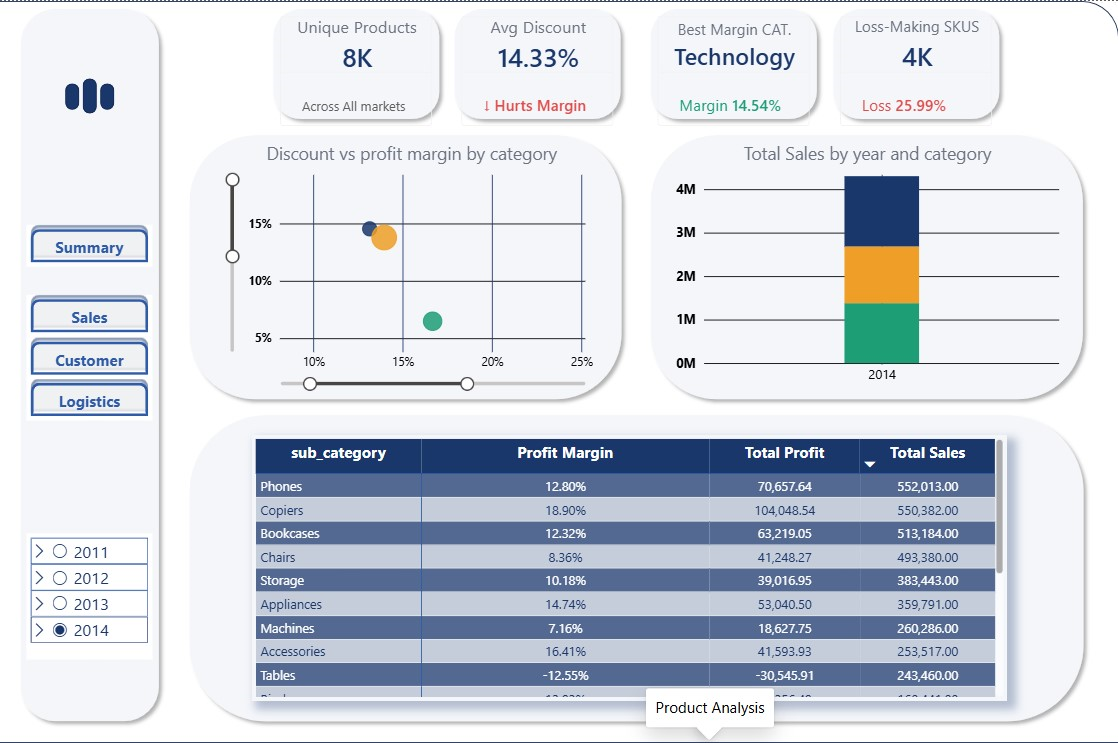

Layout of this report page (visuals, bound fields, positions):
{"tool":"powerbi","page":{"name":"Product Analysis","canvas":[1280,850],"ordinal":3},"visuals":[{"type":"shape","box":[0,0,1280,848],"z":0},{"type":"shape","box":[16,0,176,832],"z":1000},{"type":"shape","box":[736,144,512,320],"z":2000},{"type":"shape","box":[208,464,1040,368],"z":3000},{"type":"shape","box":[208,144,512,320],"z":4000},{"type":"shape","box":[304,0,208,144],"z":5000},{"type":"shape","box":[736,0,208,144],"z":6000},{"type":"shape","box":[512,0,208,144],"z":7000},{"type":"shape","box":[944,0,208,144],"z":8000},{"type":"cardVisual","fields":{"Data":["KPIs.Best Margin Category"]},"box":[736,0,208,160],"z":9000},{"type":"cardVisual","fields":{"Data":["KPIs.Avg Discount"]},"box":[512,0,208,160],"z":10000},{"type":"cardVisual","fields":{"Data":["KPIs.Loss-making SKUs"]},"box":[944,0,208,160],"z":11000},{"type":"shape","box":[96,88,16,40],"z":12000},{"type":"shape","box":[116,94,16,30],"z":13000},{"type":"shape","box":[76,94,16,30],"z":14000},{"type":"pivotTable","fields":{"Rows":["FactSales.sub_category"],"Values":["KPIs.Profit Margin","KPIs.Total Profit","KPIs.Total Sales"]},"box":[288,496,864,304],"z":15000},{"type":"scatterChart","title":"Discount vs profit margin by category","fields":{"X":["KPIs.Avg Discount"],"Category":["FactSales.year"],"Y":["KPIs.Profit Margin"],"Series":["FactSales.category"],"Size":["Sum(FactSales.Ship Days)"]},"box":[256,160,432,288],"z":16000},{"type":"columnChart","fields":{"Y":["KPIs.Total Sales"],"Category":["FactSales.year"],"Series":["FactSales.category"]},"box":[768,160,448,288],"z":17000},{"type":"listSlicer","fields":{"Values":["Date Table.Date.Variation.Date Hierarchy.Year","Date Table.Date.Variation.Date Hierarchy.Quarter","Date Table.Date.Variation.Date Hierarchy.Month","Date Table.Date.Variation.Date Hierarchy.Day"]},"box":[32,608,144,144],"z":18000},{"type":"actionButton","box":[32,432,144,48],"z":19000},{"type":"actionButton","box":[32,384,144,48],"z":20000},{"type":"actionButton","box":[32,256,144,48],"z":21000},{"type":"actionButton","box":[32,336,144,48],"z":22000},{"type":"cardVisual","fields":{"Data":["KPIs.Total Products"]},"box":[304,0,208,160],"z":23000}]}

Visuals, with their boxes on the page's 1280x850 design canvas (x1, y1, x2, y2). These are canvas units, not pixel positions in the 1118x743 screenshot, which may show the page scaled, cropped or inside an application window:
shape: left=0, top=0, right=1280, bottom=848
shape: left=16, top=0, right=192, bottom=832
shape: left=736, top=144, right=1248, bottom=464
shape: left=208, top=464, right=1248, bottom=832
shape: left=208, top=144, right=720, bottom=464
shape: left=304, top=0, right=512, bottom=144
shape: left=736, top=0, right=944, bottom=144
shape: left=512, top=0, right=720, bottom=144
shape: left=944, top=0, right=1152, bottom=144
cardVisual - KPIs.Best Margin Category: left=736, top=0, right=944, bottom=160
cardVisual - KPIs.Avg Discount: left=512, top=0, right=720, bottom=160
cardVisual - KPIs.Loss-making SKUs: left=944, top=0, right=1152, bottom=160
shape: left=96, top=88, right=112, bottom=128
shape: left=116, top=94, right=132, bottom=124
shape: left=76, top=94, right=92, bottom=124
pivotTable - FactSales.sub_category x KPIs.Profit Margin: left=288, top=496, right=1152, bottom=800
"Discount vs profit margin by category" scatterChart: left=256, top=160, right=688, bottom=448
columnChart - KPIs.Total Sales x FactSales.year: left=768, top=160, right=1216, bottom=448
listSlicer - Date Table.Date.Variation.Date Hierarchy.Year x Date Table.Date.Variation.Date Hierarchy.Quarter: left=32, top=608, right=176, bottom=752
actionButton: left=32, top=432, right=176, bottom=480
actionButton: left=32, top=384, right=176, bottom=432
actionButton: left=32, top=256, right=176, bottom=304
actionButton: left=32, top=336, right=176, bottom=384
cardVisual - KPIs.Total Products: left=304, top=0, right=512, bottom=160
